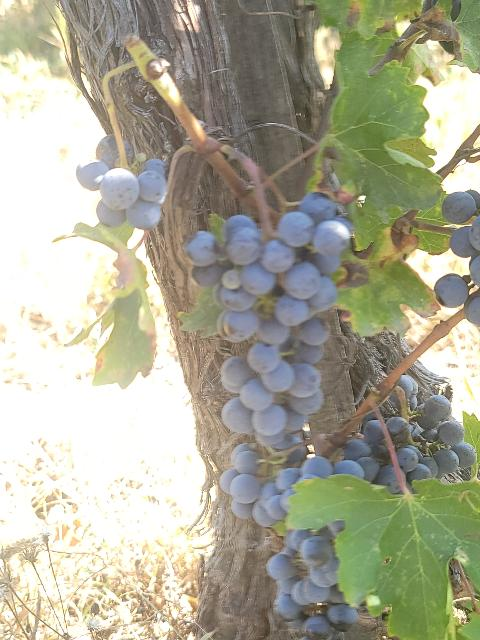grapes: (186, 192, 351, 450), (220, 444, 365, 528), (266, 520, 358, 640), (76, 135, 168, 230), (385, 395, 476, 485), (362, 412, 401, 494)
